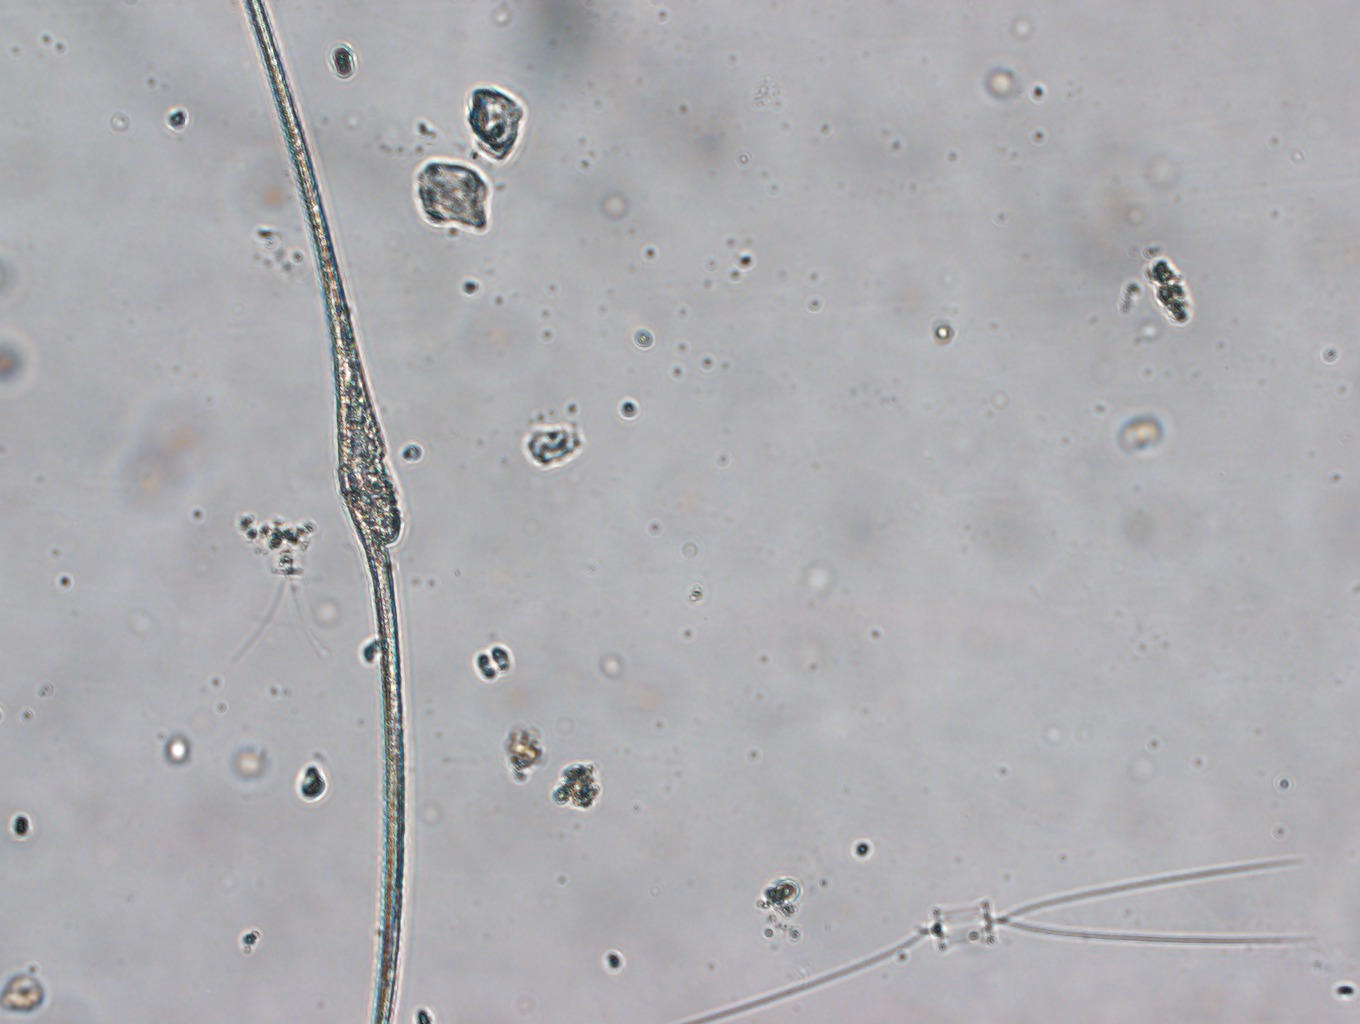ceratium fusus: (244, 3, 417, 1024)
chaetoceros: (692, 850, 1318, 1024)
